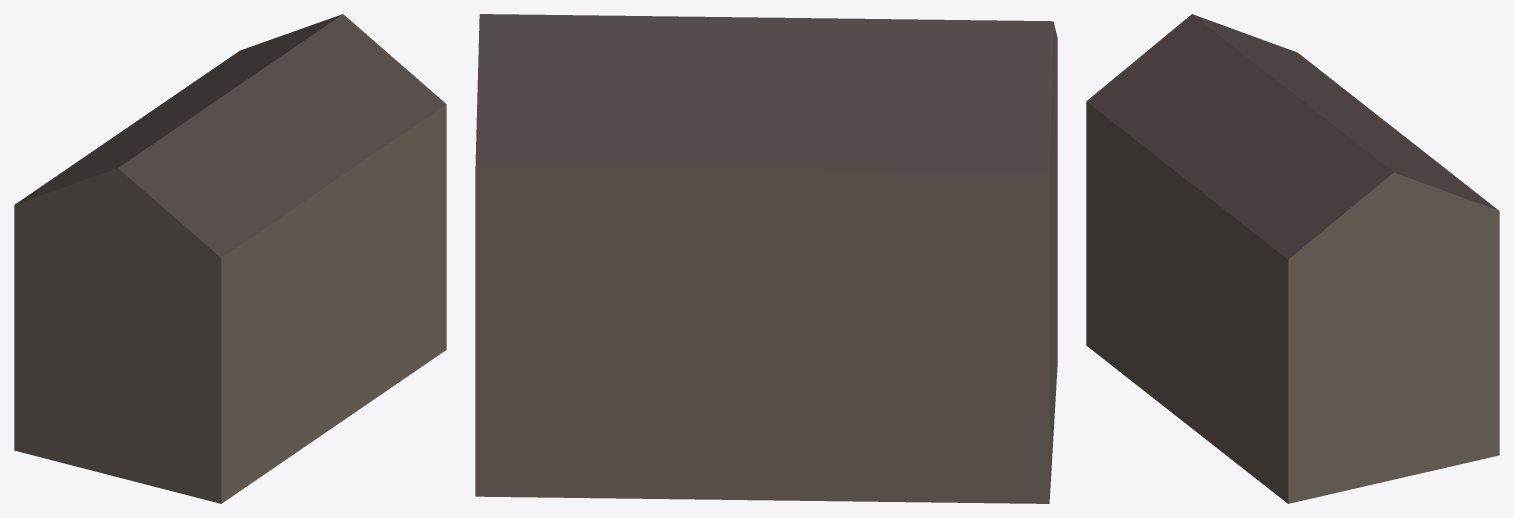
3 views of the same model, side by side, from view 1: azimuth 30°, elevation 25°; view 2: azimuth 150°, elevation 25°; view 3: azimuth 270°, elevation 25° (orthographic). The views are drawn at different scales.
Parts seen in each view (by area): view 1: HP-w859088522; view 2: HP-w859088522; view 3: HP-w859088522.
Boxes of the visible parts, box(x1,y1,x2,y2) form: HP-w859088522: box(14, 14, 446, 503); HP-w859088522: box(475, 14, 1057, 503); HP-w859088522: box(1086, 14, 1499, 503).
Bounding box in the file's own units: 16.37 × 11.32 × 13.8.
